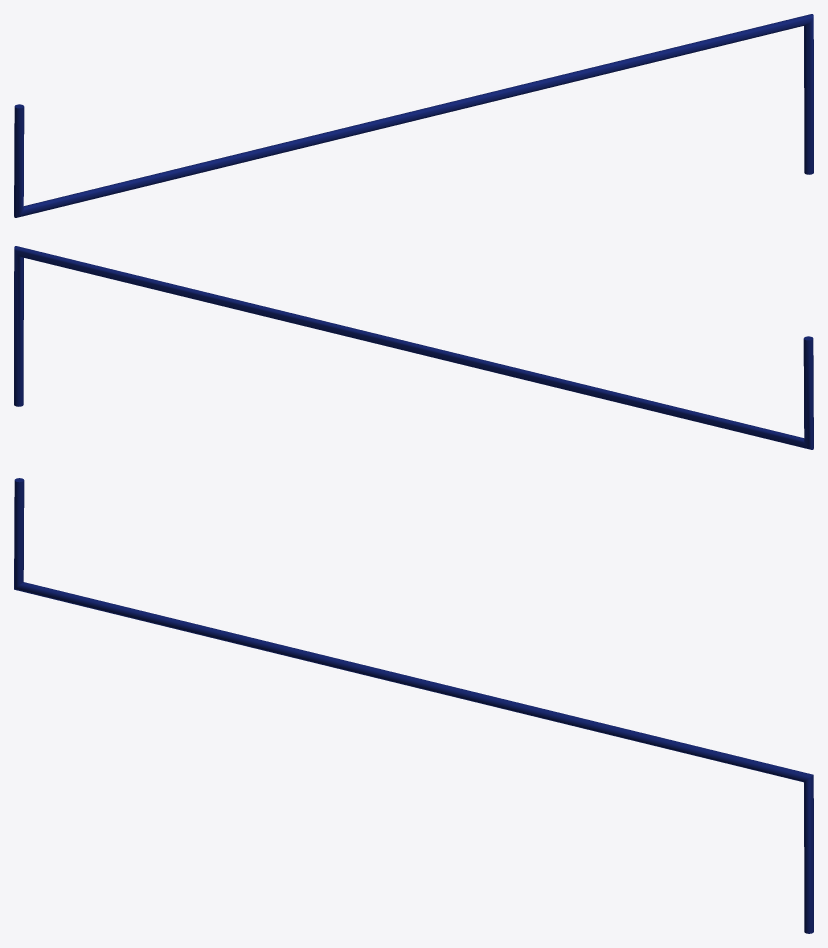
File: Tube02_Mapa01.FBX
3 views of the same model, one above another, from view 1: azimuth 30°, elevation 25°; view 2: azimuth 150°, elevation 25°; view 3: azimuth 330°, elevation 25° (orthographic).
Parts seen in each view (by area): view 1: Line006; view 2: Line006; view 3: Line006.
Part boxes in pixels (x1,y1,x2,y2): Line006: (14, 14, 813, 217); Line006: (14, 246, 813, 449); Line006: (14, 478, 813, 933).
Bounding box in the file's own units: 569 × 176 × 6.
